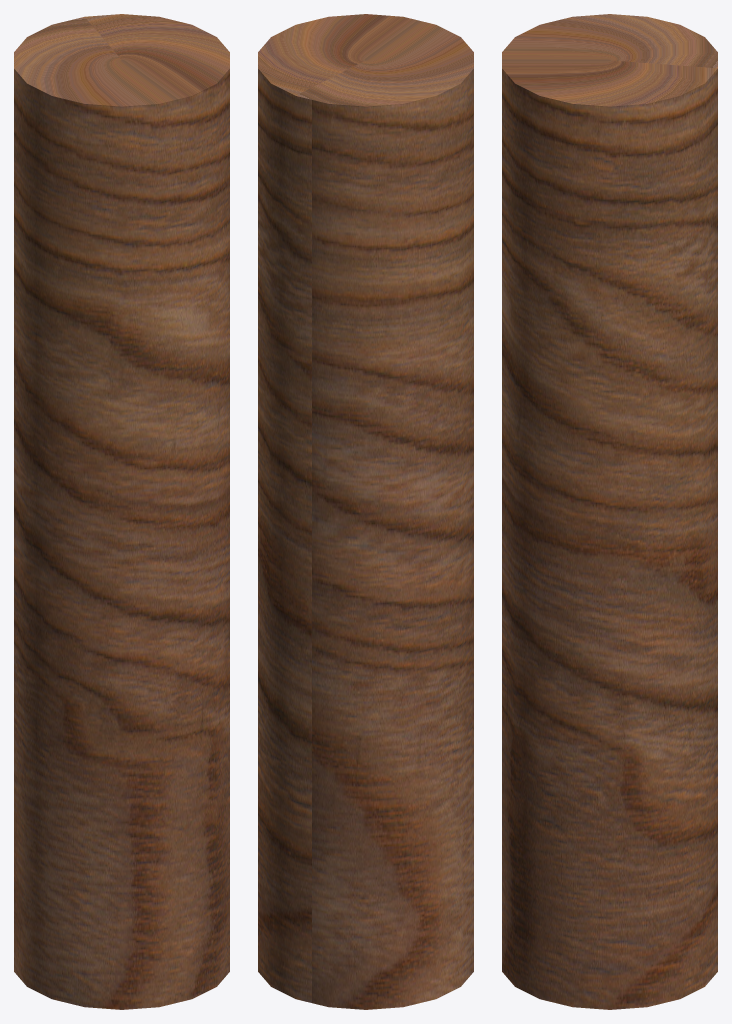
File: stage2_SIGNBOAED_SUPPORT.fbx
3 views of the same model, side by side, from view 1: azimuth 30°, elevation 25°; view 2: azimuth 150°, elevation 25°; view 3: azimuth 270°, elevation 25° (orthographic).
Parts seen in each view (by area): view 1: Cylinder001; view 2: Cylinder001; view 3: Cylinder001.
Part boxes in pixels (x1=…): Cylinder001: x1=14, y1=14, x2=229, y2=1009; Cylinder001: x1=258, y1=14, x2=473, y2=1009; Cylinder001: x1=502, y1=14, x2=717, y2=1009.
Bounding box in the file's own units: 11 × 50 × 10.83.
